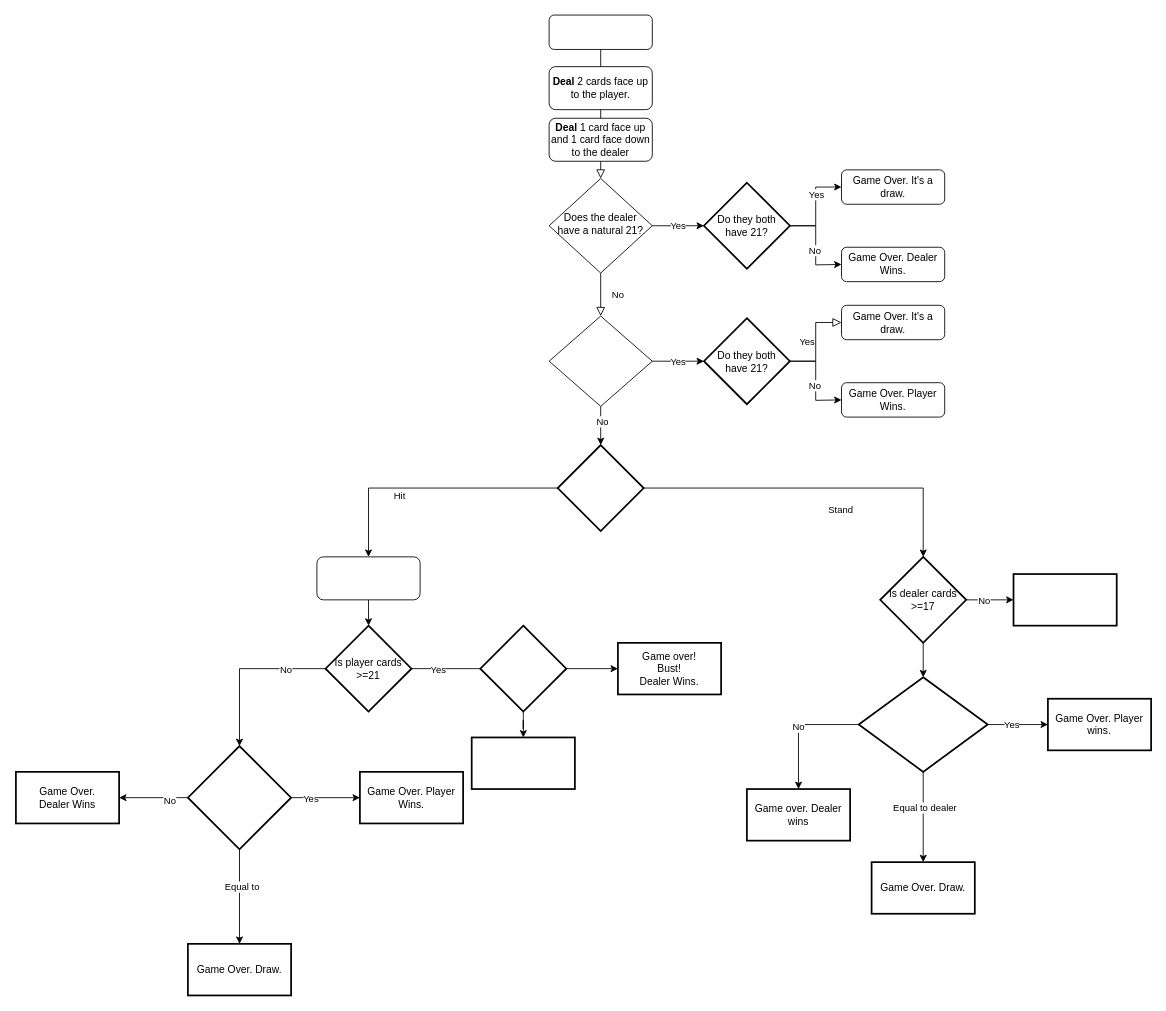
The diagram is 1166 pixels wide and 1011 high, and some of its shapes have lost their labels. The box of each missing label's shape, as (x1, y1, x2, y2) in pixels:
Ask Player; Stand or Hit: (556, 444, 644, 531)
Deal 1 card face up to the player.: (316, 556, 420, 600)
Deal card to dealer until total is >=17: (1012, 573, 1117, 626)
Does the player have a natural 21?: (548, 315, 652, 406)
Is one of the cards an 11?: (479, 624, 567, 712)
Is Player hand > Dealer: (857, 676, 988, 772)
Is the player's cards > dealers cards?: (187, 745, 292, 850)
Start Game: (548, 14, 652, 49)
